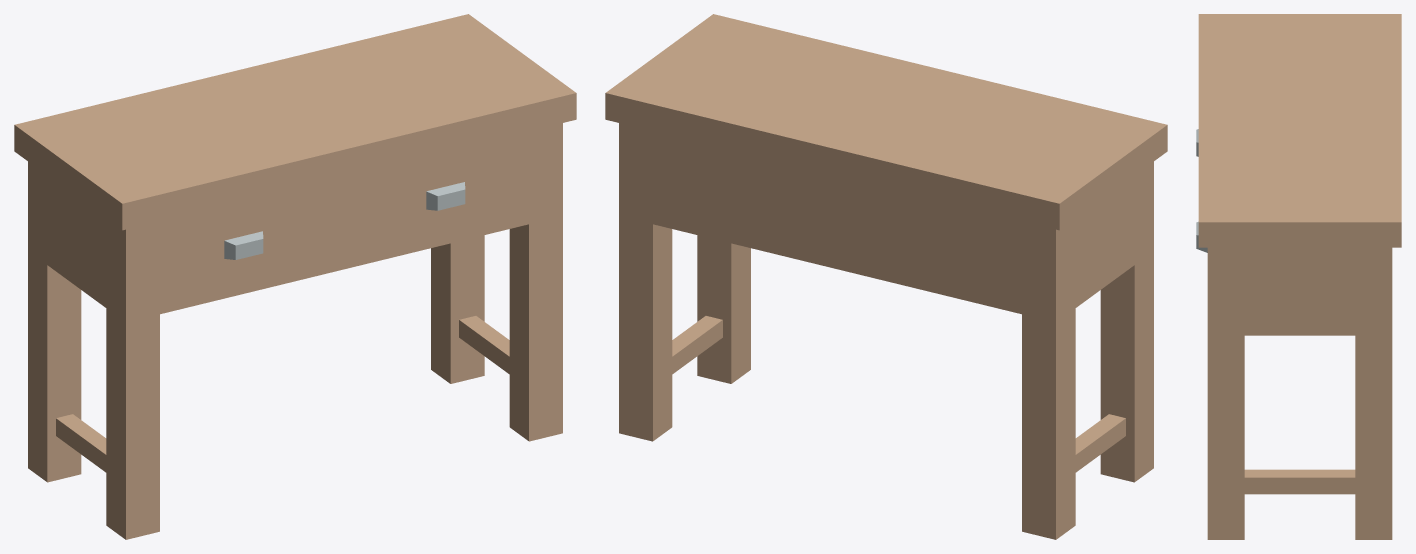
File: sideTableDrawers.glb
3 views of the same model, side by side, from view 1: azimuth 30°, elevation 25°; view 2: azimuth 150°, elevation 25°; view 3: azimuth 270°, elevation 25° (orthographic). The views are drawn at different scales.
Visible parts, largest first — view 1: sideTableDrawers; view 2: sideTableDrawers; view 3: sideTableDrawers.
Boxes of the visible parts, bbox=[...] form: sideTableDrawers: bbox=[14, 14, 576, 539]; sideTableDrawers: bbox=[605, 14, 1167, 539]; sideTableDrawers: bbox=[1196, 14, 1401, 539].
Bounding box in the file's own units: 0.5345 × 0.3844 × 0.2223.
